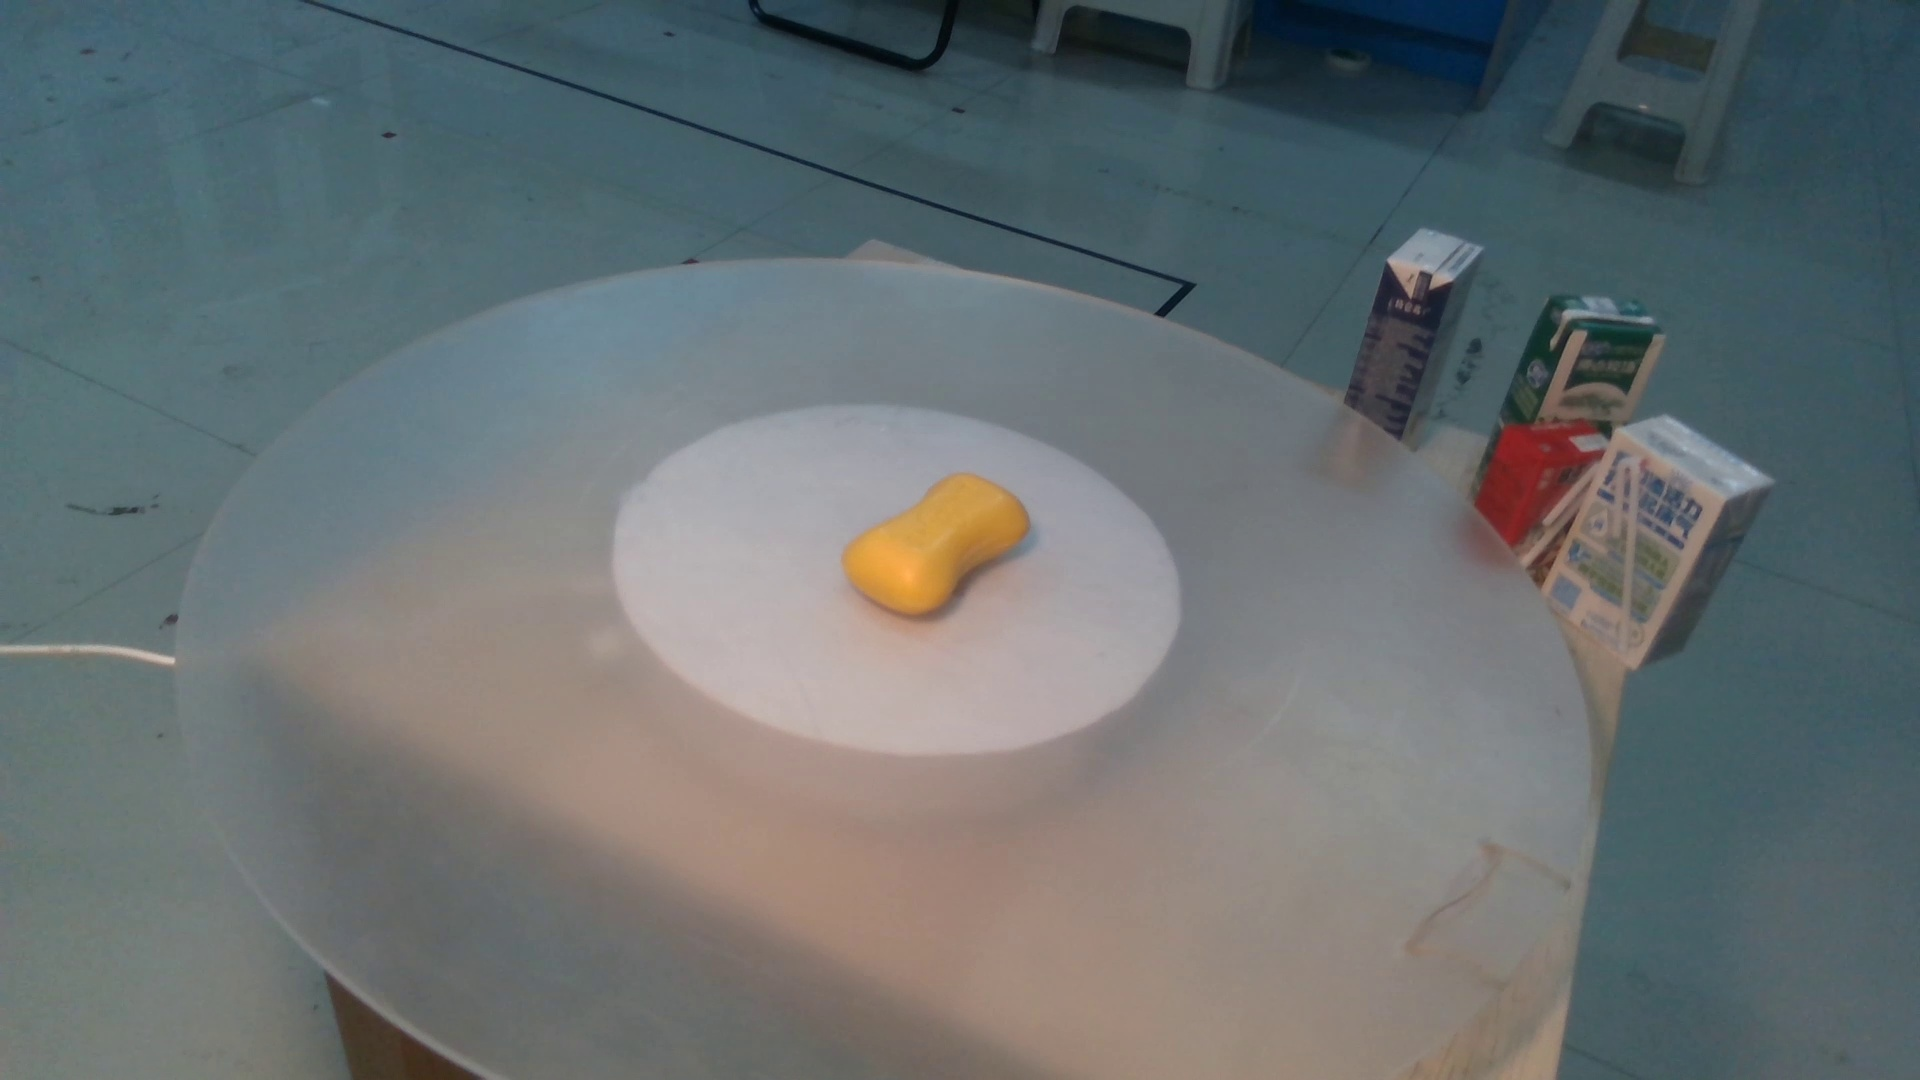CA003_1: (837, 469, 1062, 629)
